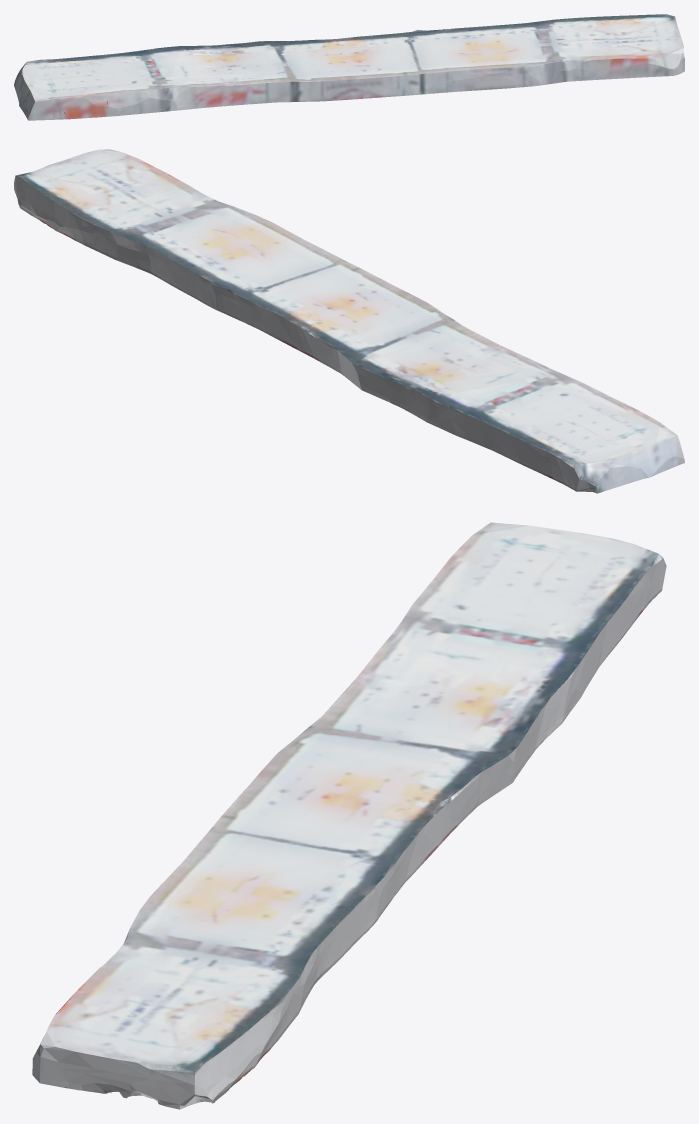
3 renders of one model, top to bottom at view 1: azimuth 30°, elevation 25°; view 2: azimuth 150°, elevation 25°; view 3: azimuth 270°, elevation 25°, orthographic. The views are drawn at different scales.
Size of the model in its own units: 5.45 by 0.1953 by 2.61.
1 material, 1 textured.
